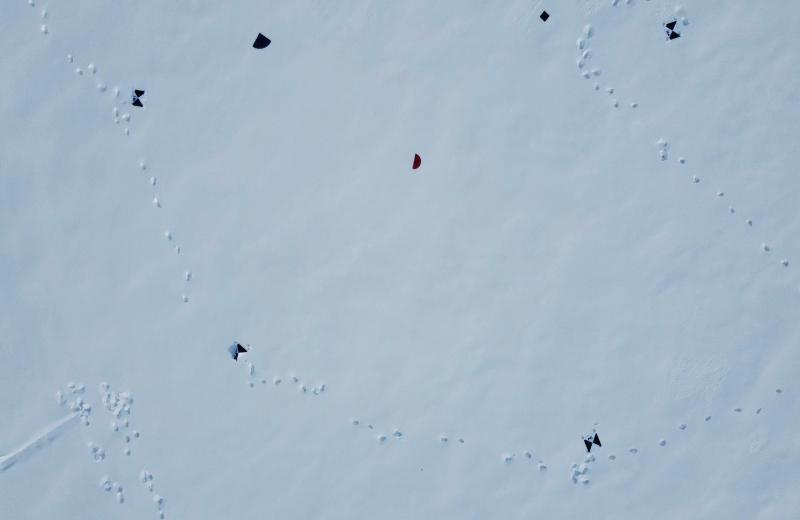Quarter Circle: (251, 32, 272, 50)
Semi Circle: (411, 152, 422, 169)
Square: (540, 10, 551, 22)
